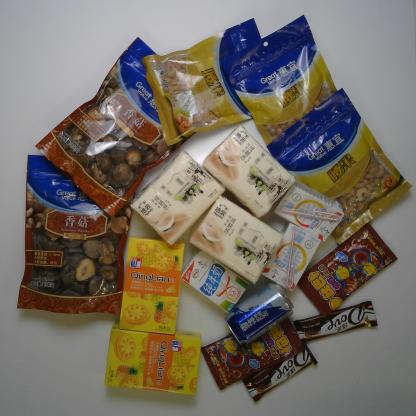Alcohol: (220, 282, 289, 341)
Candy: (190, 312, 308, 392), (301, 223, 392, 313)
Chocolate: (244, 342, 320, 399), (292, 299, 382, 345)
Dessert: (98, 323, 209, 401), (114, 236, 190, 332)
Dried Food: (40, 35, 210, 214), (12, 146, 134, 322)
Dried Fruit: (265, 85, 409, 249), (142, 16, 293, 143), (213, 15, 355, 144)
Milk: (179, 245, 255, 313), (263, 220, 324, 294), (274, 179, 343, 239)
Tissue: (132, 150, 232, 250), (204, 120, 294, 217), (192, 192, 285, 280)
